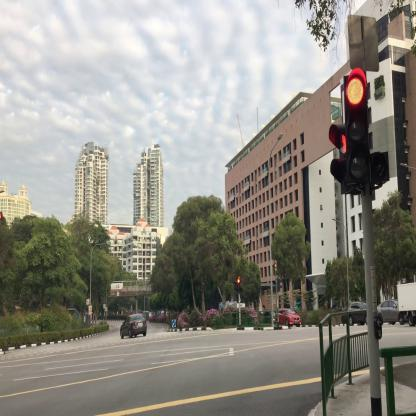red_traffic_light: (346, 76, 372, 186), (237, 278, 240, 292)
